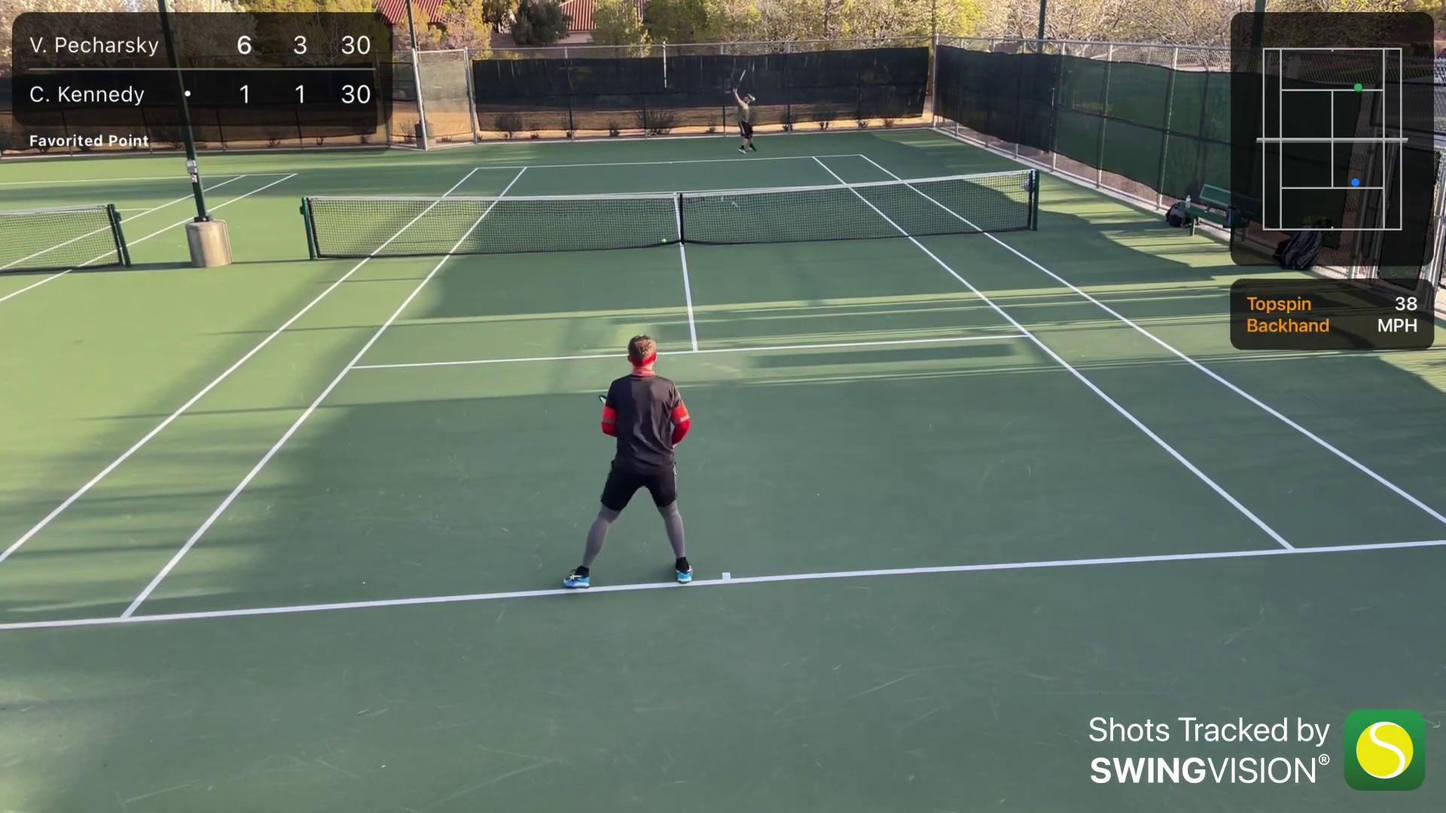ball: (660, 238, 668, 245)
